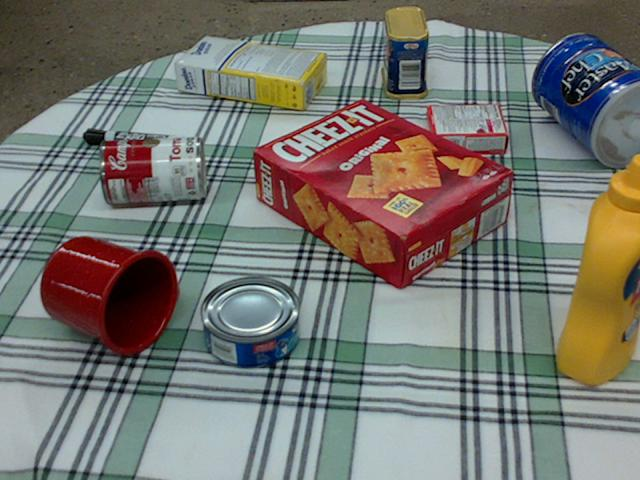cracker_box: (254, 97, 512, 286)
gelatin_box: (423, 100, 507, 156)
large_marker: (82, 128, 183, 150)
master_chef_can: (529, 34, 639, 167)
mug: (39, 236, 177, 354)
mustard_bottle: (556, 152, 639, 383)
potted_meat_can: (379, 5, 428, 98)
sugar_box: (174, 36, 327, 108)
tomato_soup_can: (98, 134, 205, 203)
tuna_fish_can: (198, 276, 299, 368)
